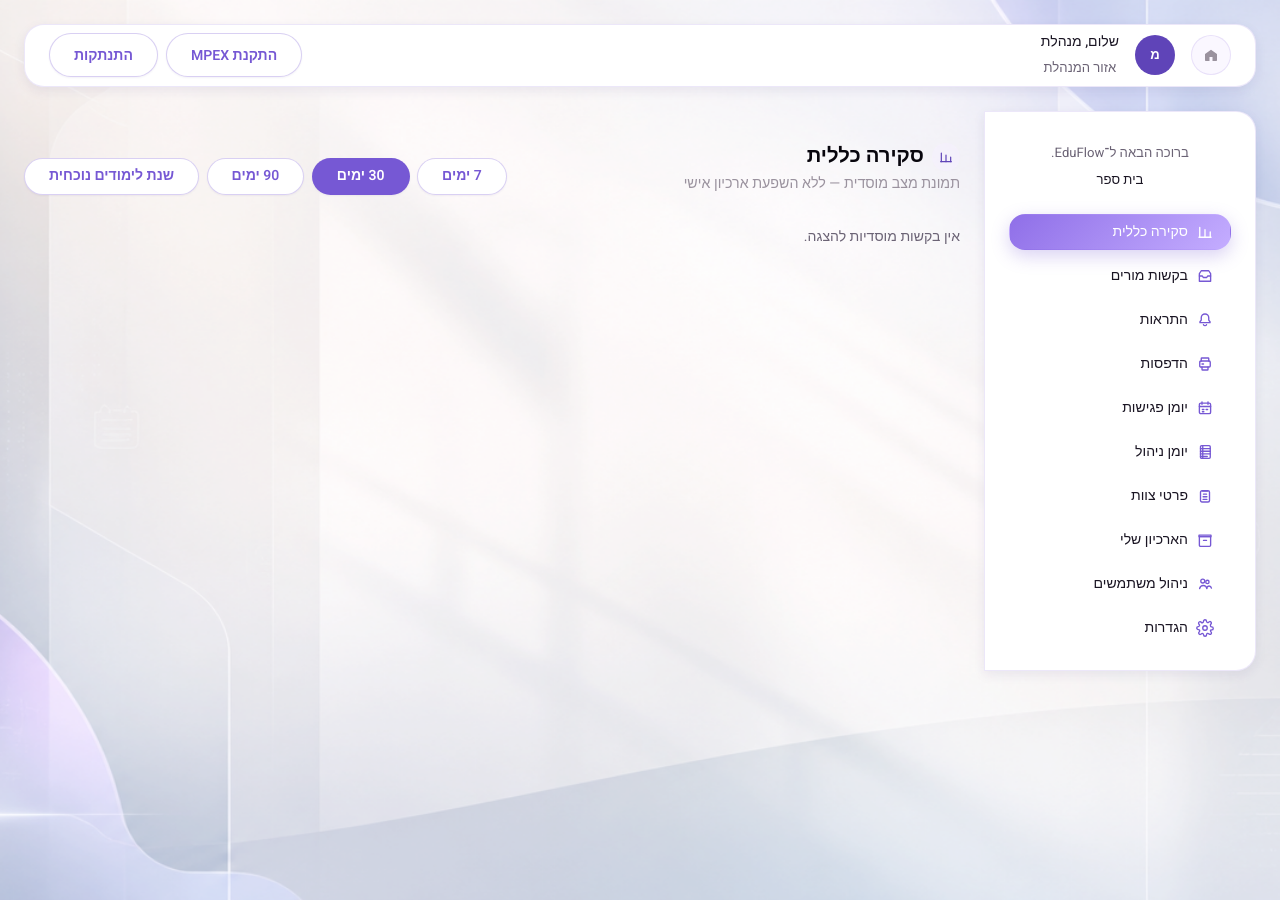
Scenario: Manager dashboard requests layout › does not render the recent activity panel
The image size is (1280, 900).
Click the button "בקשות מורים": (1120, 276) [1009,258,1231,294]
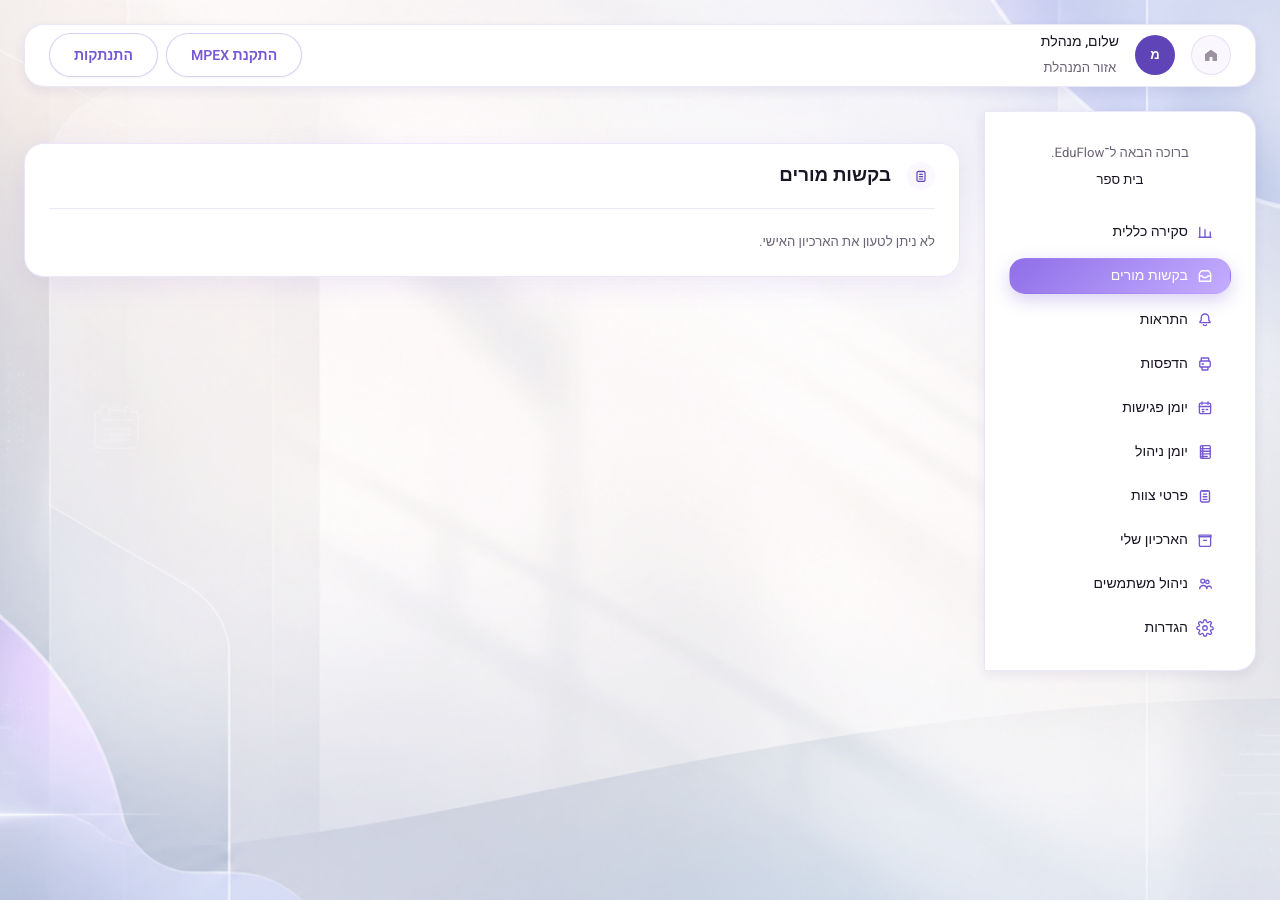
Check: the element "בקשות מורים" is shown, box [24,143,960,277]
